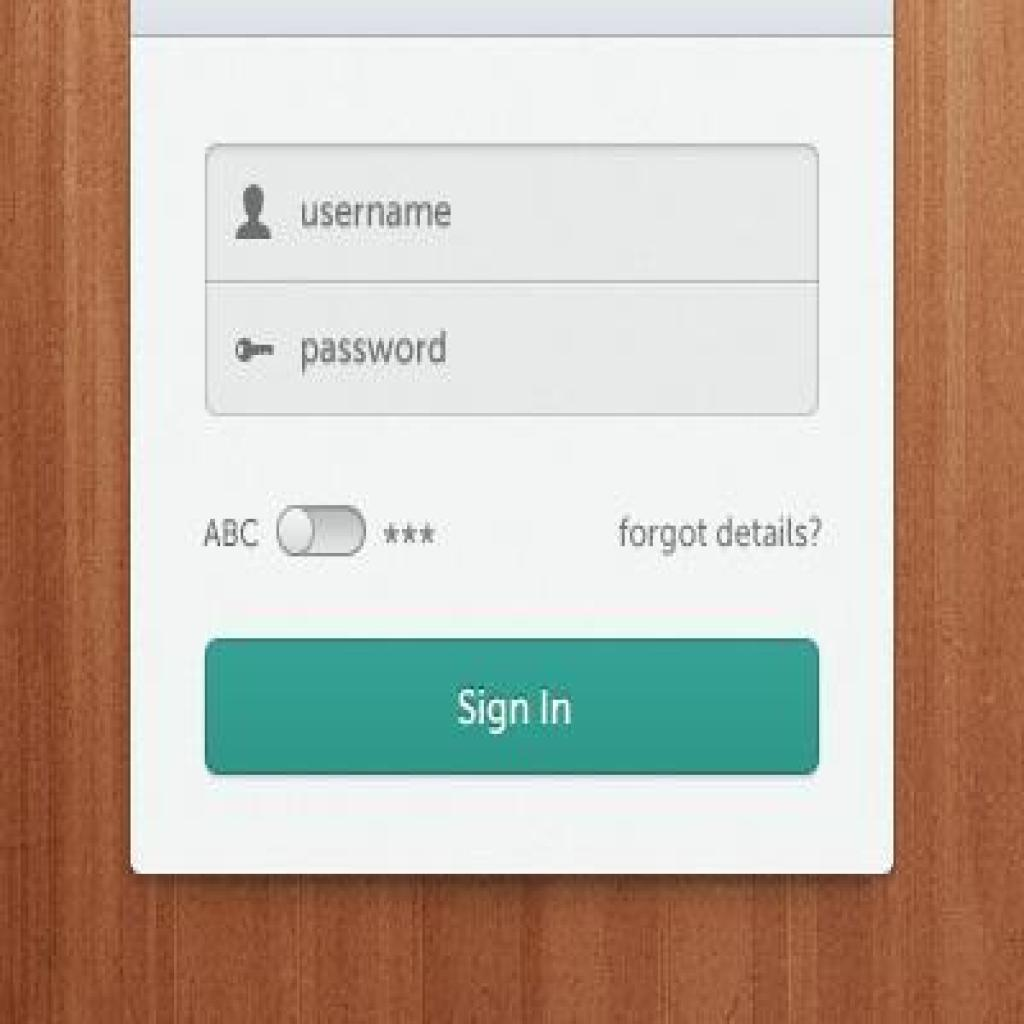button: (202, 635, 819, 775)
icon: (233, 181, 271, 239), (233, 335, 274, 365)
input: (208, 140, 820, 280), (204, 280, 816, 413)
label: (614, 512, 824, 550)
switch: (276, 502, 368, 560)
